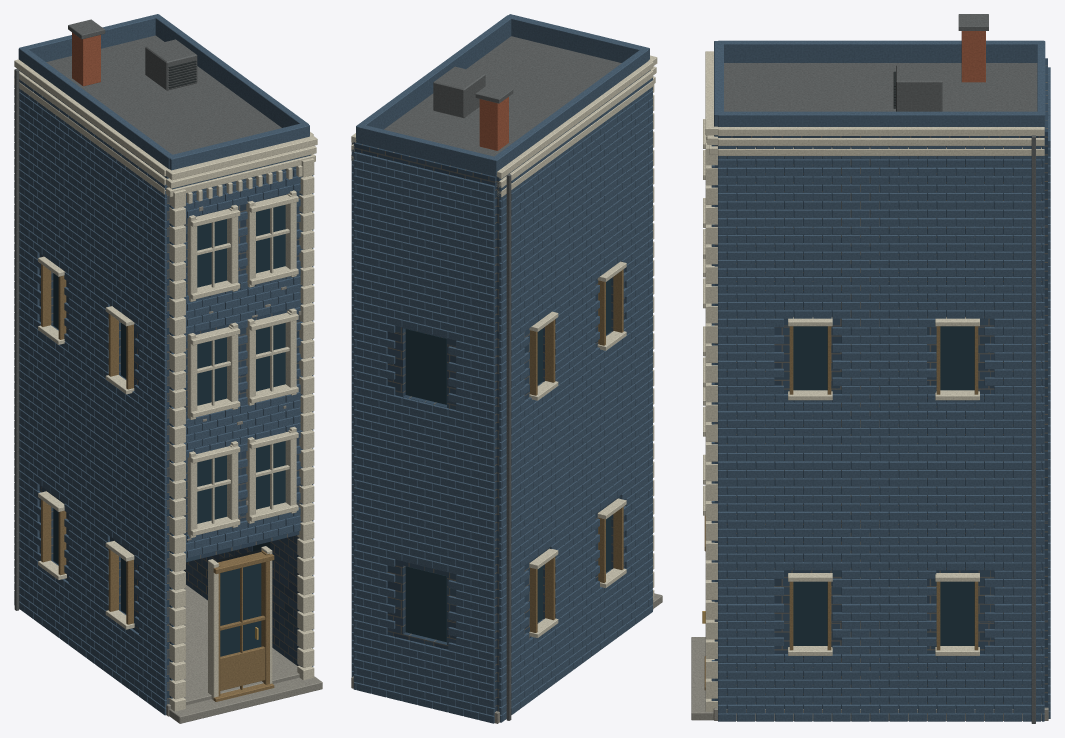
Rendered from OFFC13_lod0.glb.
3 renders of one model, left to right at view 1: azimuth 30°, elevation 25°; view 2: azimuth 150°, elevation 25°; view 3: azimuth 270°, elevation 25°, orthographic. The views are drawn at different scales.
Visible parts, largest first — view 1: OFFC13_LOD0; view 2: OFFC13_LOD0; view 3: OFFC13_LOD0.
Boxes of the visible parts, box(x1,y1,x2,y2) form: OFFC13_LOD0: box(14, 14, 322, 723); OFFC13_LOD0: box(351, 14, 662, 723); OFFC13_LOD0: box(691, 14, 1050, 723).
Size of the model in its own units: 3.71 by 13.05 by 6.6.
Materials: 13 (10 with a texture image).
